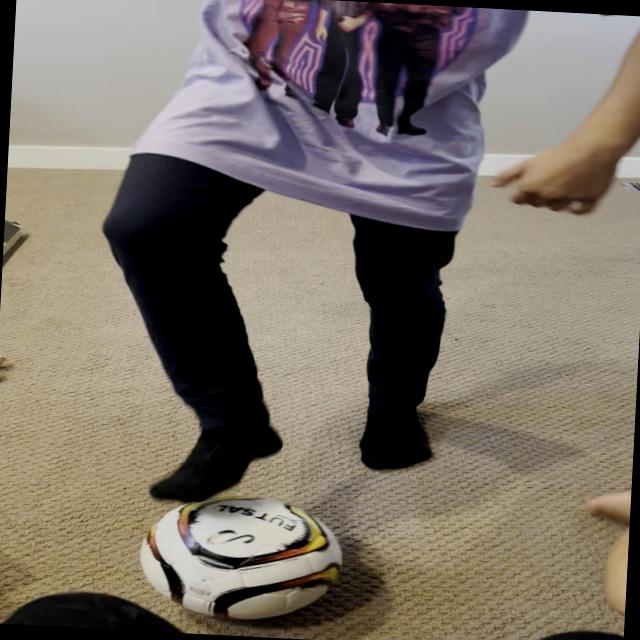Soccer Ball: (137, 490, 346, 624)
